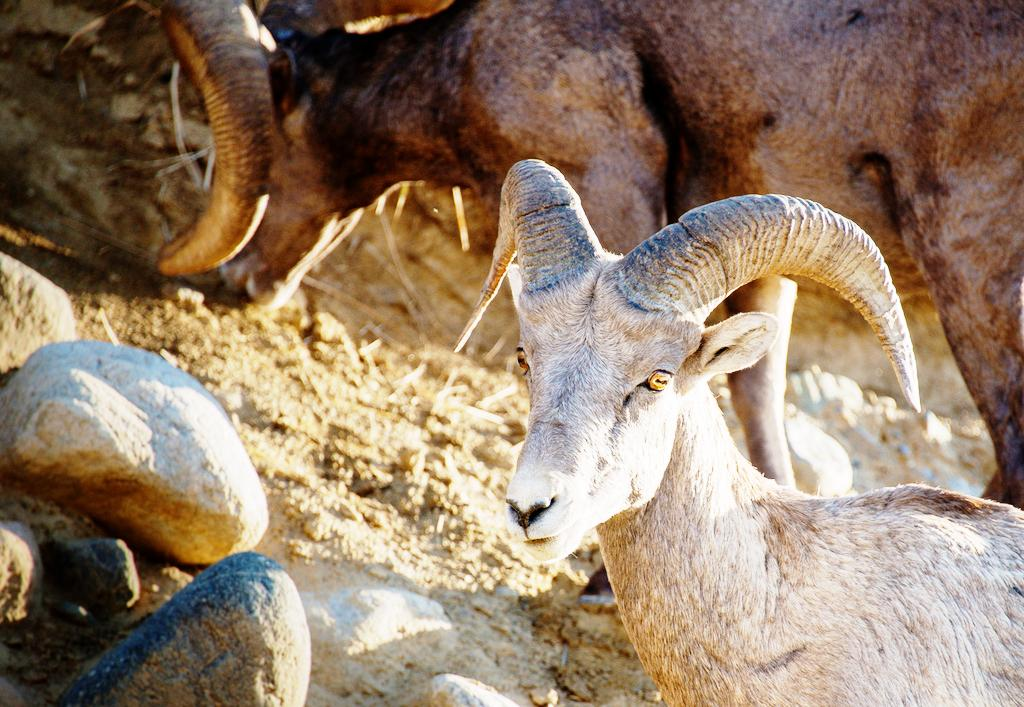Sheep: (158, 0, 1024, 509), (454, 160, 1024, 707)
